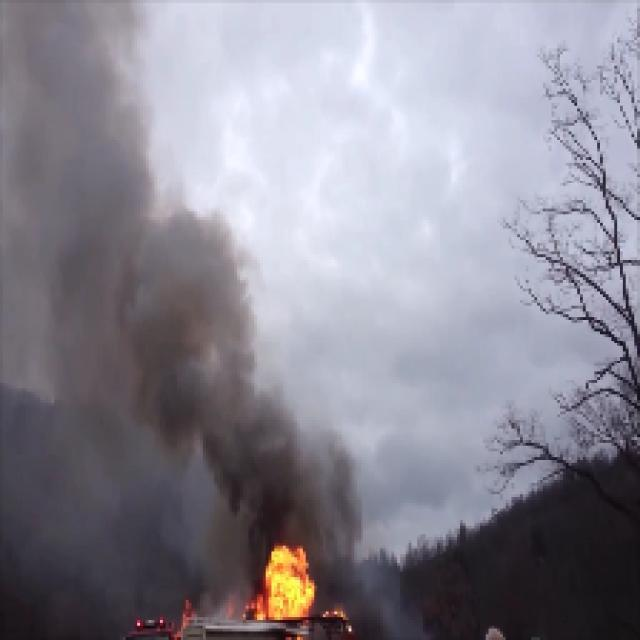Fire: (252, 544, 321, 632)
Smoke: (5, 0, 156, 473), (160, 208, 348, 519)
